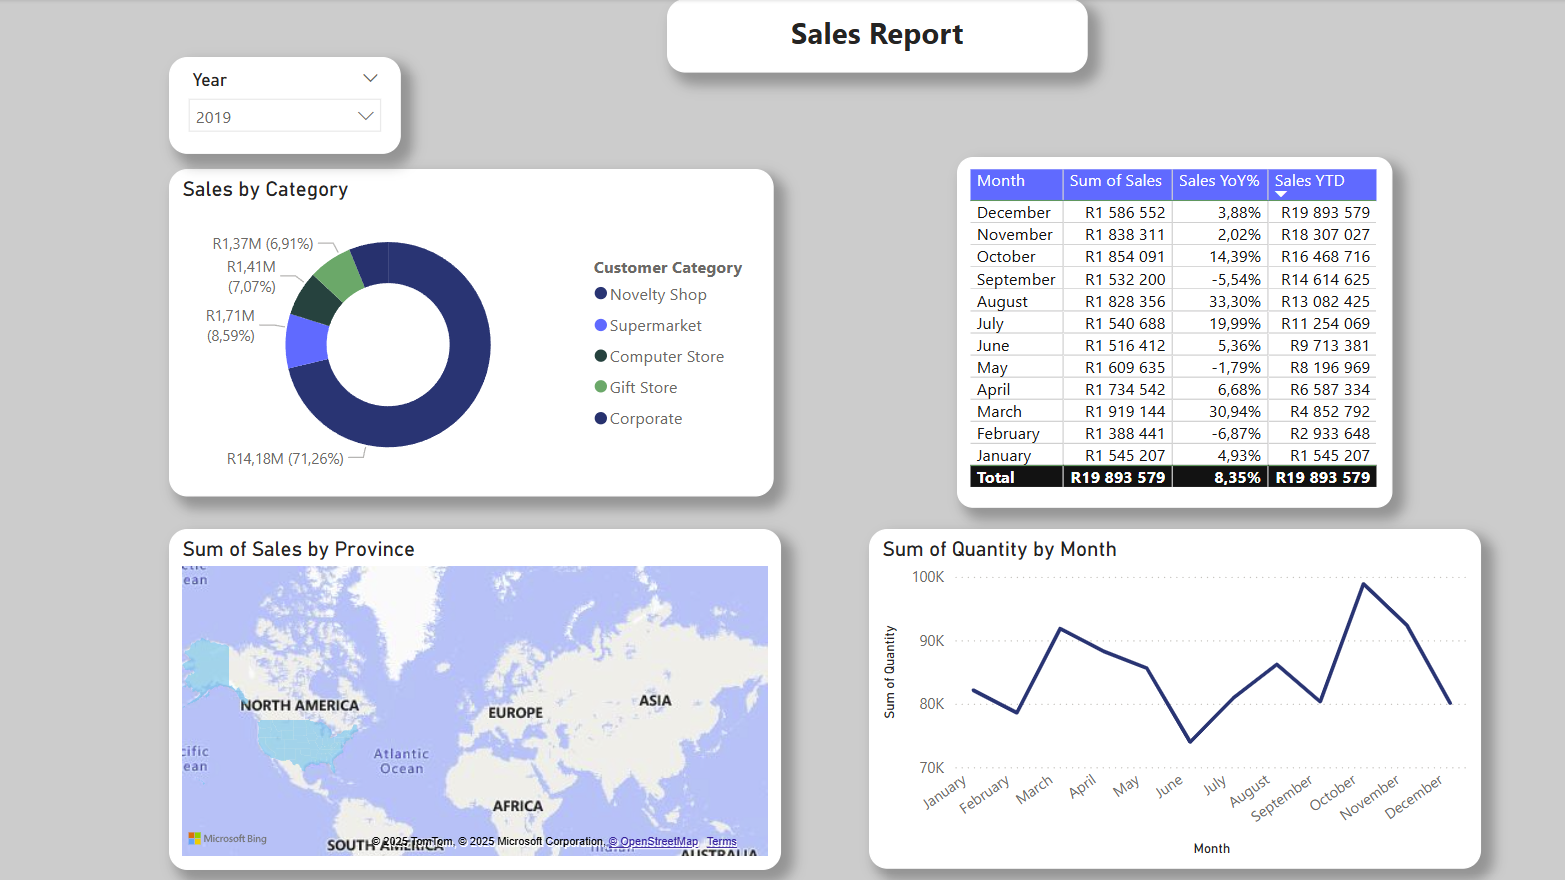

Layout of this report page (visuals, bound fields, positions):
{"tool":"powerbi","page":{"name":"Page 1","canvas":[1280,720],"ordinal":0},"visuals":[{"type":"donutChart","title":"Sales by Category","fields":{"Category":["MasterCustomer.CustomerCategoryName"],"Y":["Sum(InvoiceData.Sales)"]},"box":[141,138.6,493.2,267.4],"z":0},{"type":"slicer","fields":{"Values":["InvoiceData.Date.Variation.Date Hierarchy.Year"]},"box":[141,47.3,189.1,79.1],"z":1000},{"type":"tableEx","fields":{"Values":["InvoiceData.Date.Variation.Date Hierarchy.Month","Sum(InvoiceData.Sales)","InvoiceData.Sales YoY%","InvoiceData.Sales YTD"]},"box":[783.5,128.8,355.5,286.2],"z":2000},{"type":"filledMap","fields":{"Category":["MasterCustomer.Province"]},"box":[141,432.1,499,278],"z":3000},{"type":"lineChart","fields":{"Y":["Sum(InvoiceData.Quantity)"],"Category":["InvoiceData.Date.Variation.Date Hierarchy.Month"]},"box":[711.7,432.1,499,277.2],"z":4000},{"type":"textbox","box":[547.3,0,342.8,59.6],"z":5000}]}

Visuals, with their boxes in screenshot pixels (x1, y1, x2, y2), scaled from the page's 1280x720 canvas onto the 1565x880 screenshot:
"Sales by Category" donutChart: bbox=(172, 169, 775, 496)
slicer - InvoiceData.Date.Variation.Date Hierarchy.Year: bbox=(172, 58, 404, 154)
tableEx - InvoiceData.Date.Variation.Date Hierarchy.Month x Sum(InvoiceData.Sales): bbox=(958, 157, 1393, 507)
filledMap - MasterCustomer.Province: bbox=(172, 528, 782, 868)
lineChart - Sum(InvoiceData.Quantity) x InvoiceData.Date.Variation.Date Hierarchy.Month: bbox=(870, 528, 1480, 867)
textbox: bbox=(669, 0, 1088, 73)
